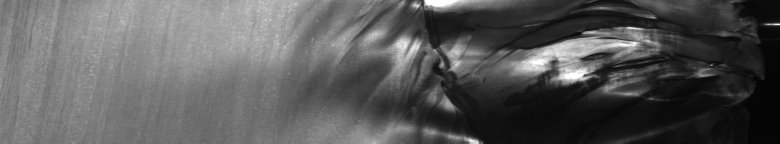ke: (355, 0, 641, 144)
